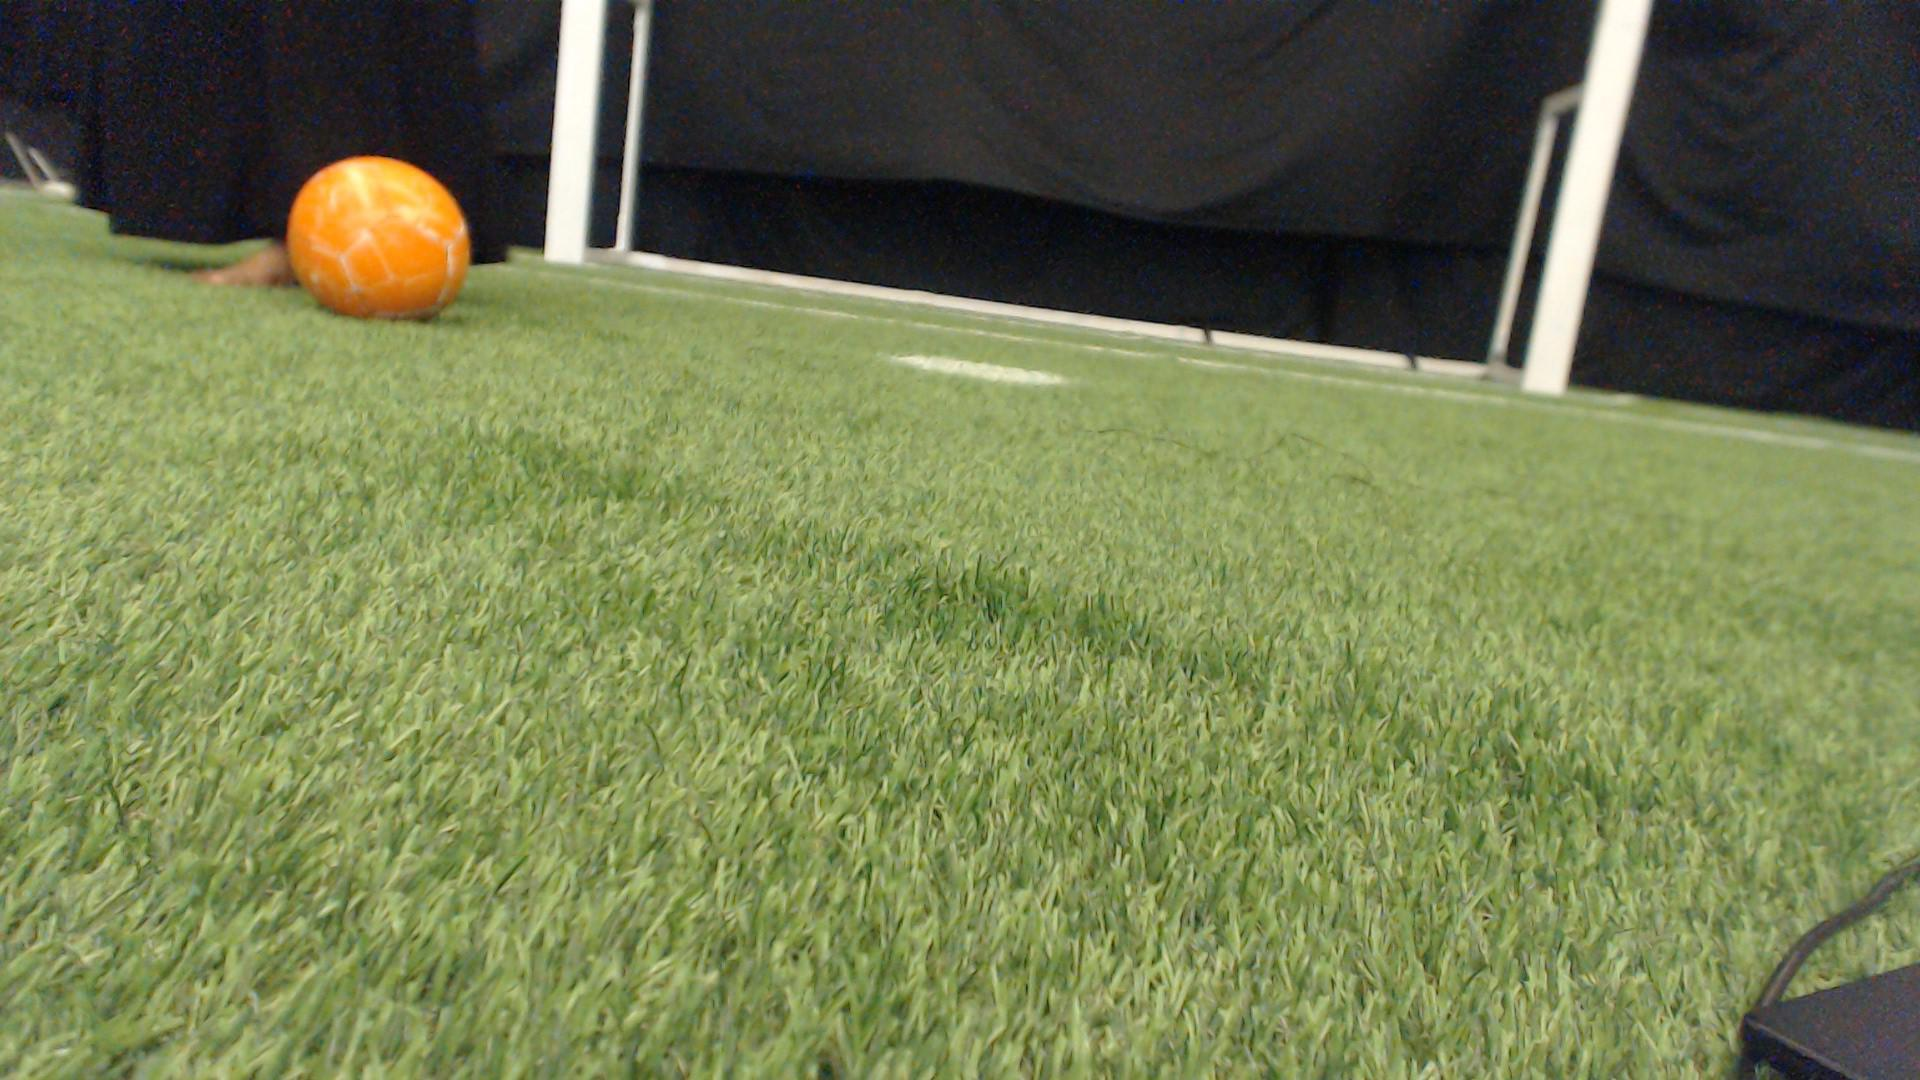bola: (272, 140, 501, 324)
